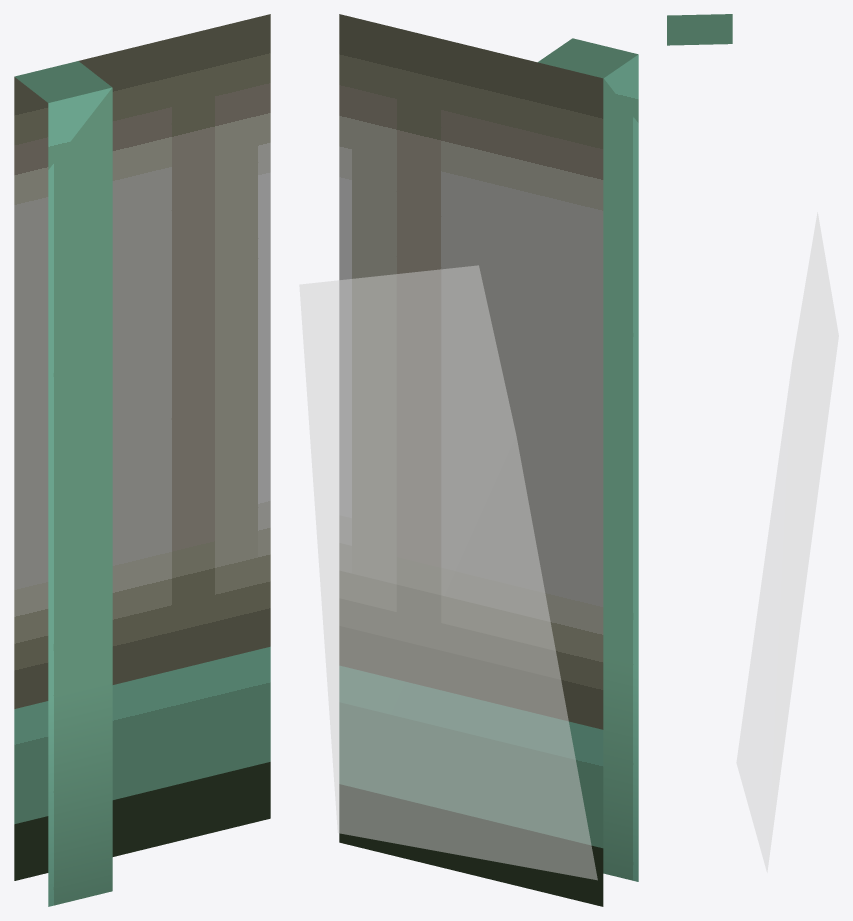
3 renders of one model, left to right at view 1: azimuth 30°, elevation 25°; view 2: azimuth 150°, elevation 25°; view 3: azimuth 270°, elevation 25°, orthographic. The views are drawn at different scales.
Size of the model in its own units: 1 by 3 by 0.6045.
Materials: 2 (2 with a texture image).
